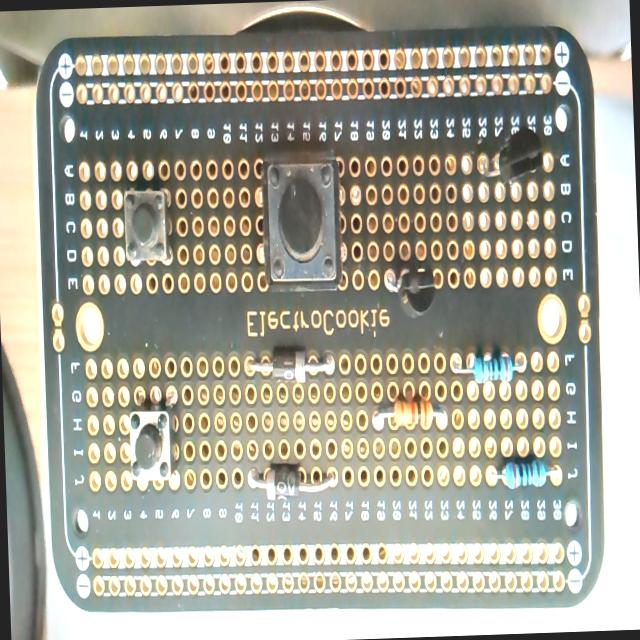diode: (246, 462, 337, 502), (246, 346, 335, 384)
resistor: (372, 396, 447, 432), (450, 348, 525, 383), (487, 454, 562, 489)
switch: (258, 153, 344, 291), (123, 186, 172, 266), (128, 408, 174, 481)
transistor: (474, 114, 546, 204), (376, 246, 444, 340)
